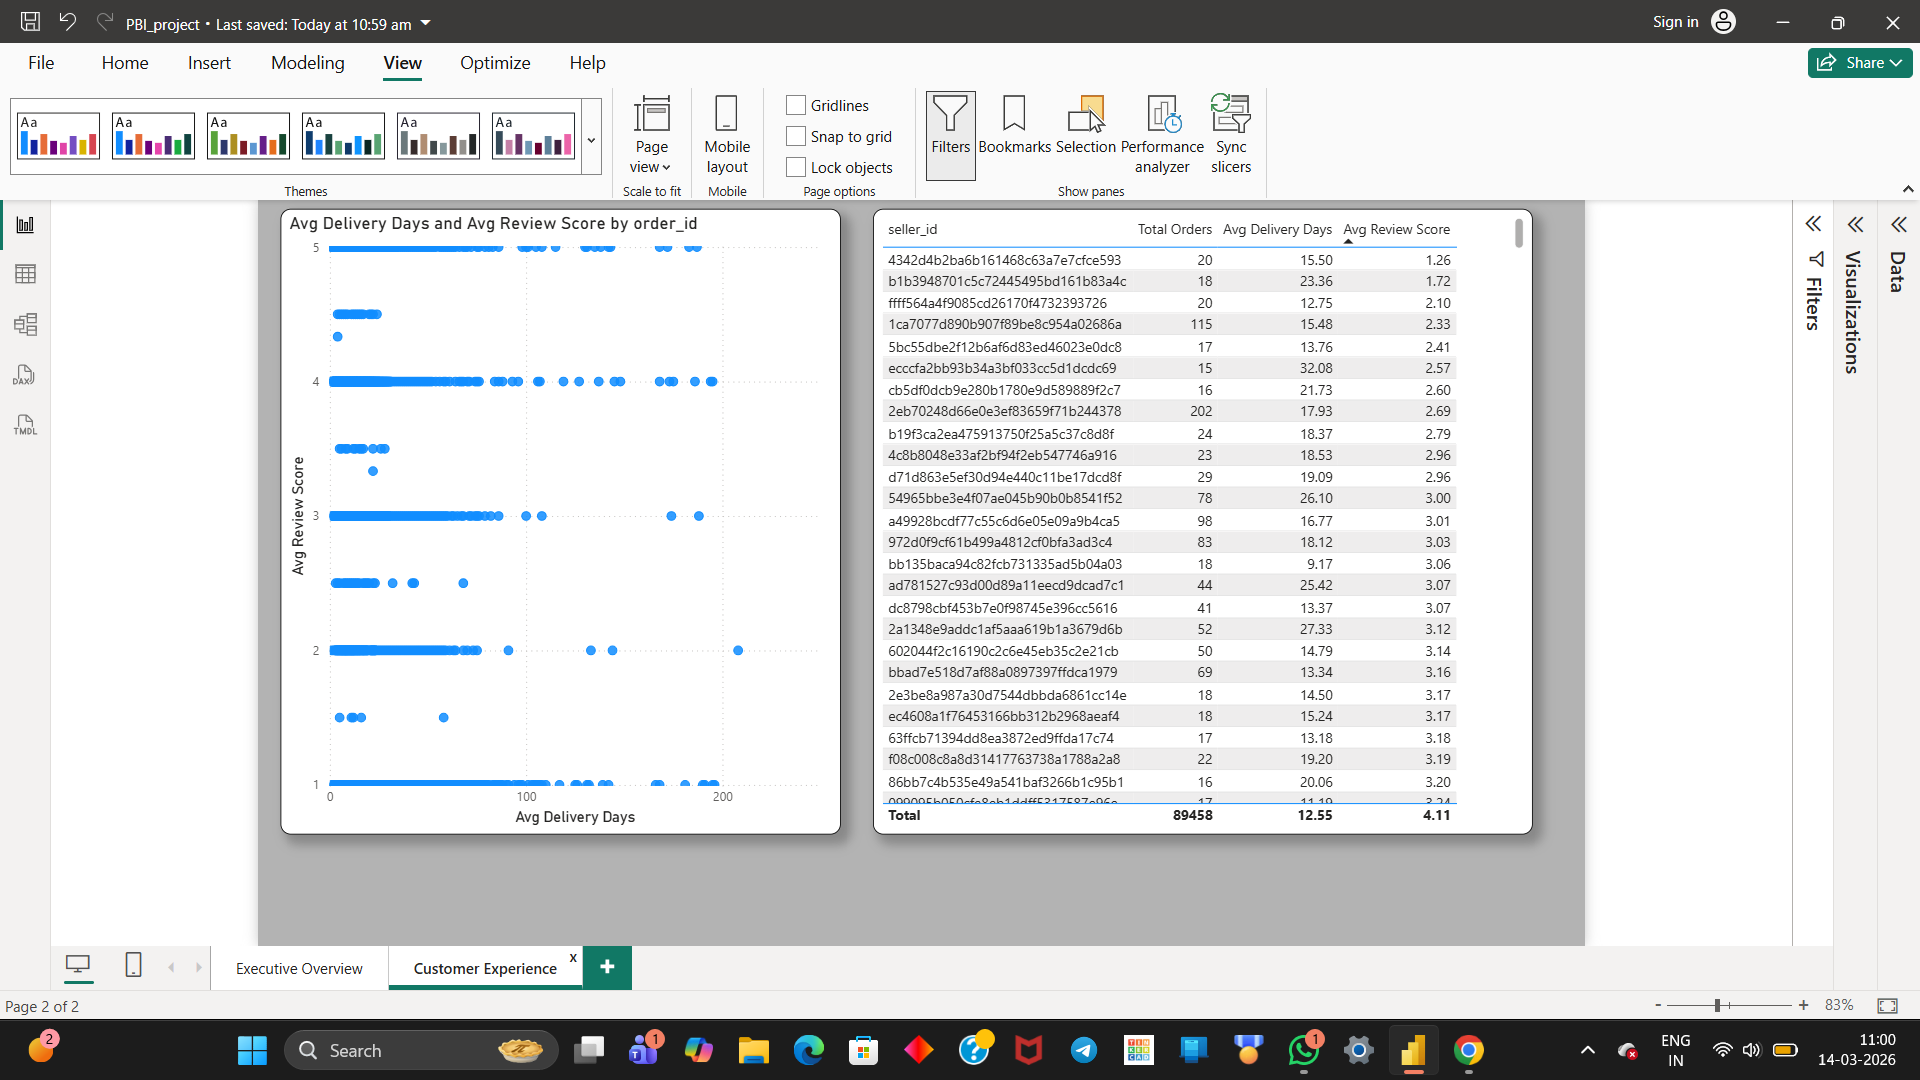

This screenshot's page, from the dashboard's own definition file:
{"tool":"powerbi","page":{"name":"Customer Experience","canvas":[1280,720],"ordinal":1},"visuals":[{"type":"scatterChart","fields":{"X":["_Key.Avg Delivery Days"],"Y":["_Key.Avg Review Score"],"Category":["olist_orders_dataset.order_id"]},"box":[22,8.6,540.5,604.1],"z":0},{"type":"tableEx","fields":{"Values":["olist_sellers_dataset.seller_id","_Key.Total Orders","_Key.Avg Delivery Days","_Key.Avg Review Score"]},"box":[593.1,8.6,637.1,604.1],"z":1000}]}

Visuals, with their boxes on the page's 1280x720 design canvas (x1, y1, x2, y2). These are canvas units, not pixel positions in the 1920x1080 screenshot, which may show the page scaled, cropped or inside an application window:
scatterChart - _Key.Avg Delivery Days x _Key.Avg Review Score: [x1=22, y1=9, x2=562, y2=613]
tableEx - olist_sellers_dataset.seller_id x _Key.Total Orders: [x1=593, y1=9, x2=1230, y2=613]
